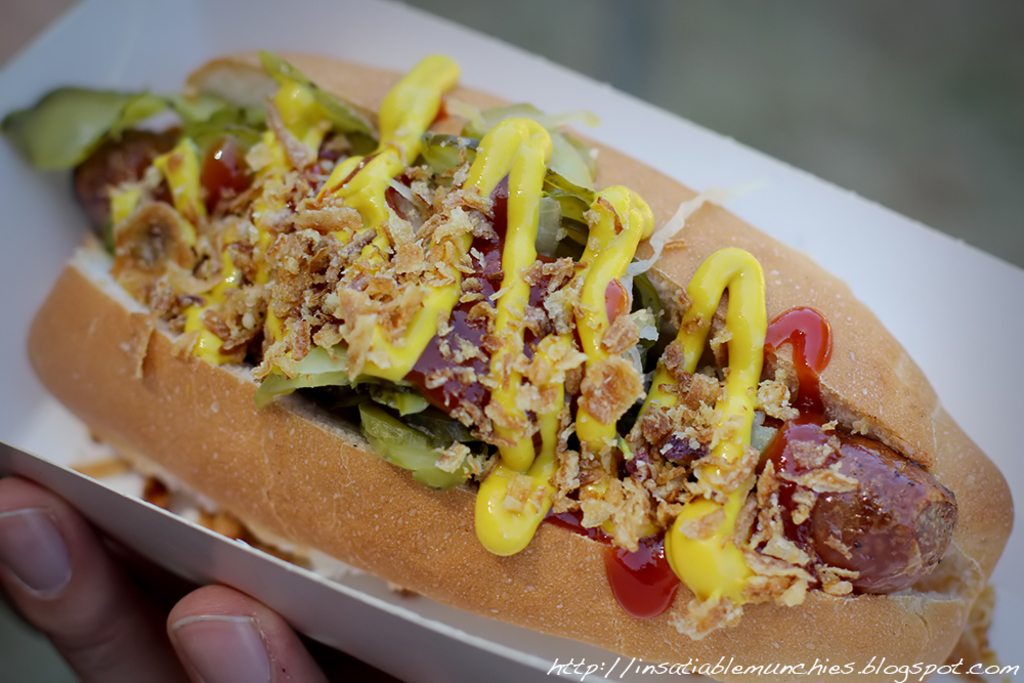hot_dog: (25, 33, 1022, 682)
